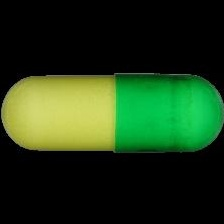16590-911: (0, 0, 224, 224)
